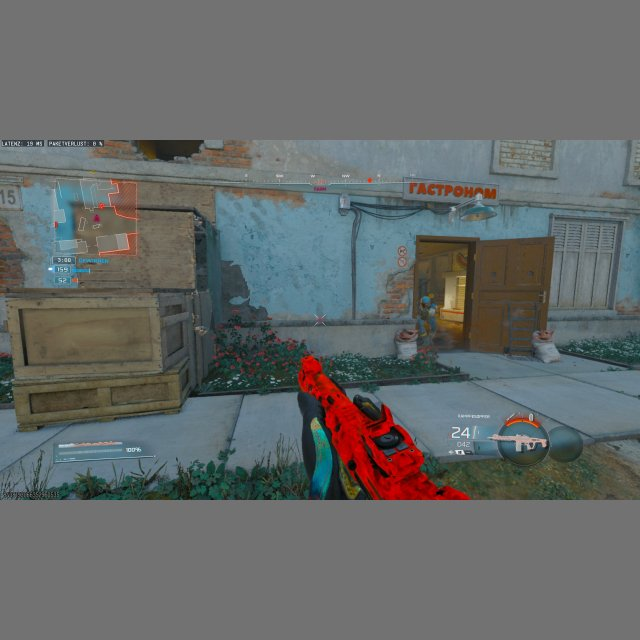head: (425, 294, 433, 304)
player: (415, 293, 439, 343)
